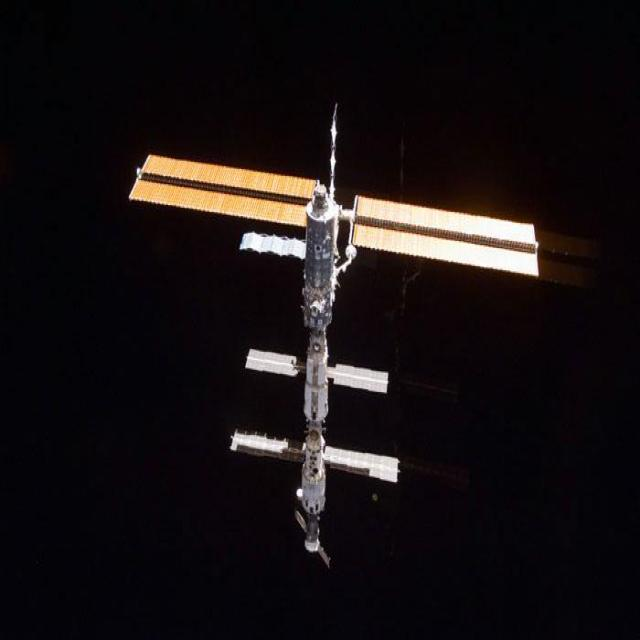medium_debris: (130, 117, 539, 567)
